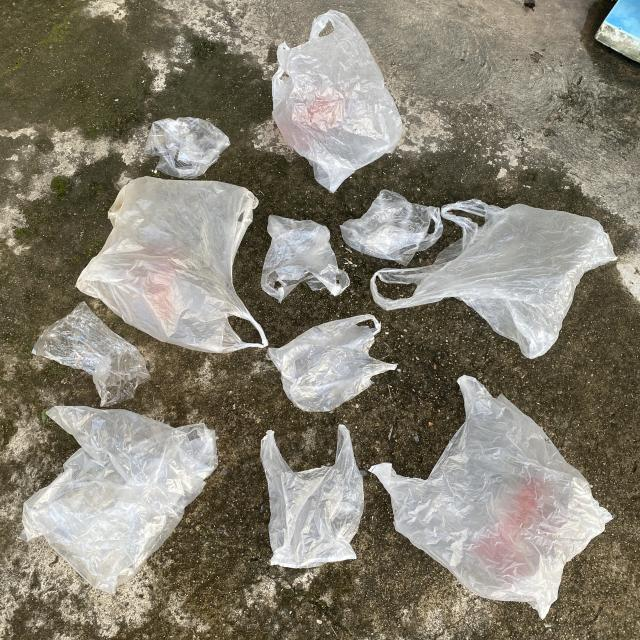Single-layer Plastic: (370, 376, 611, 618), (370, 200, 616, 359), (22, 406, 218, 592), (76, 176, 268, 352), (272, 10, 402, 192), (260, 425, 364, 569), (268, 315, 396, 411), (32, 302, 150, 406), (340, 190, 442, 266), (261, 215, 350, 302), (145, 118, 230, 179)
